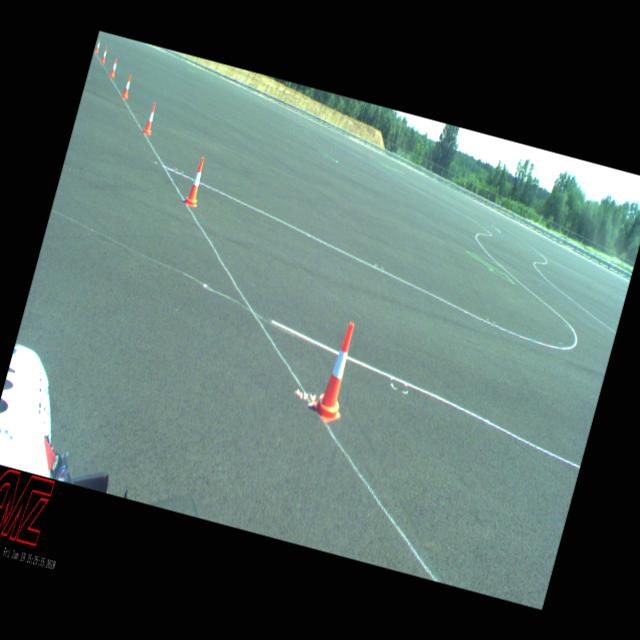orange_cone: (310, 318, 364, 424), (184, 156, 209, 208), (142, 102, 158, 134), (121, 74, 133, 99), (108, 58, 118, 78), (100, 46, 108, 63), (94, 38, 101, 53)
